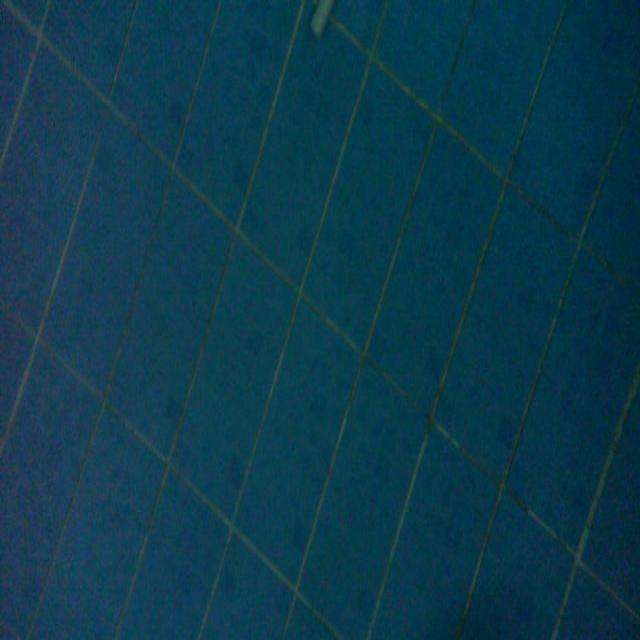Cube: (308, 0, 335, 39)
